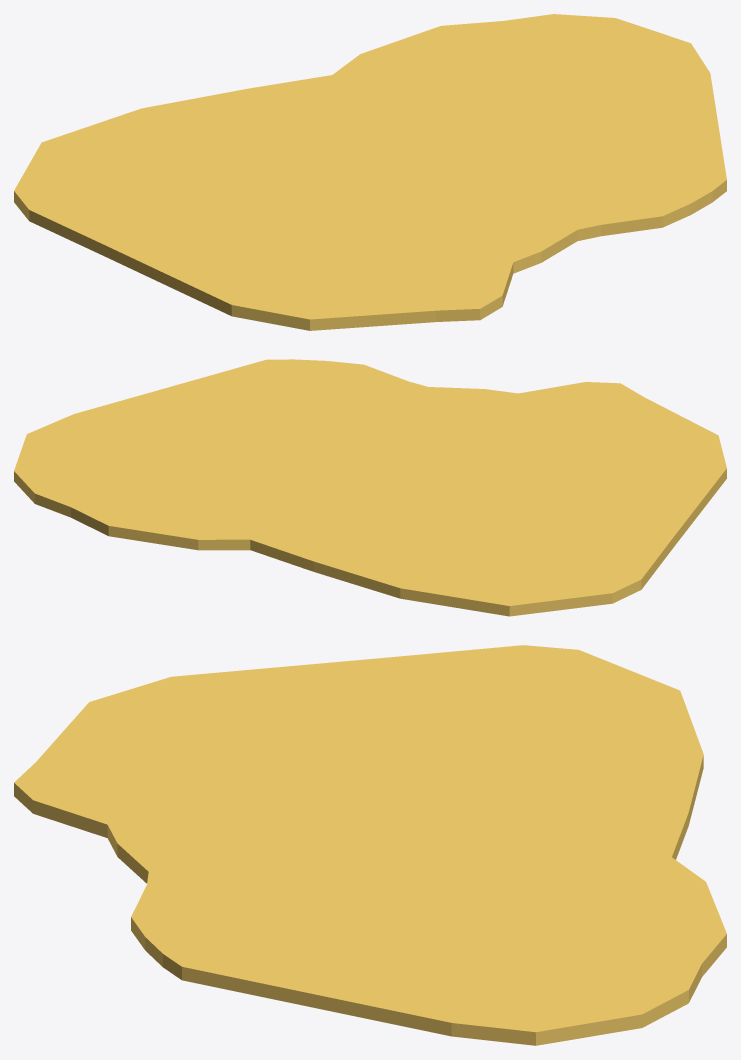
Rendered from Sand 27.FBX.
3 views of the same model, one above another, from view 1: azimuth 30°, elevation 25°; view 2: azimuth 150°, elevation 25°; view 3: azimuth 270°, elevation 25° (orthographic). The views are drawn at different scales.
Parts seen in each view (by area): view 1: Plane001; view 2: Plane001; view 3: Plane001.
Part boxes in pixels (x1,y1,x2,y2): Plane001: (14, 14, 726, 330); Plane001: (14, 359, 726, 616); Plane001: (14, 645, 726, 1045).
Size of the model in its own units: 133 by 2.18 by 104.
